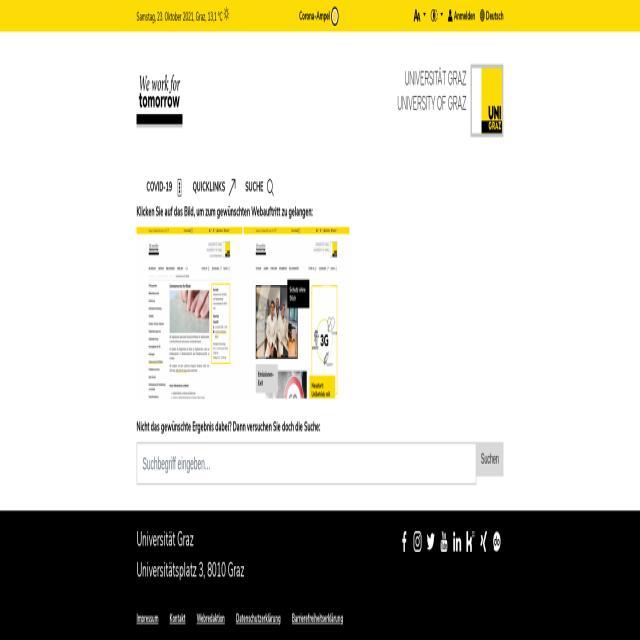button: (136, 228, 242, 398), (244, 228, 350, 398), (136, 74, 182, 127), (471, 64, 504, 137), (476, 443, 504, 476), (414, 531, 422, 552), (427, 531, 435, 552), (453, 531, 461, 552), (466, 531, 474, 552), (493, 531, 501, 552), (441, 531, 447, 552), (481, 531, 487, 552), (176, 180, 182, 197), (229, 180, 235, 197), (267, 180, 273, 197), (430, 9, 438, 21), (414, 9, 421, 21), (402, 531, 406, 552), (448, 9, 452, 21), (480, 9, 484, 21)
field: (137, 441, 476, 483)
